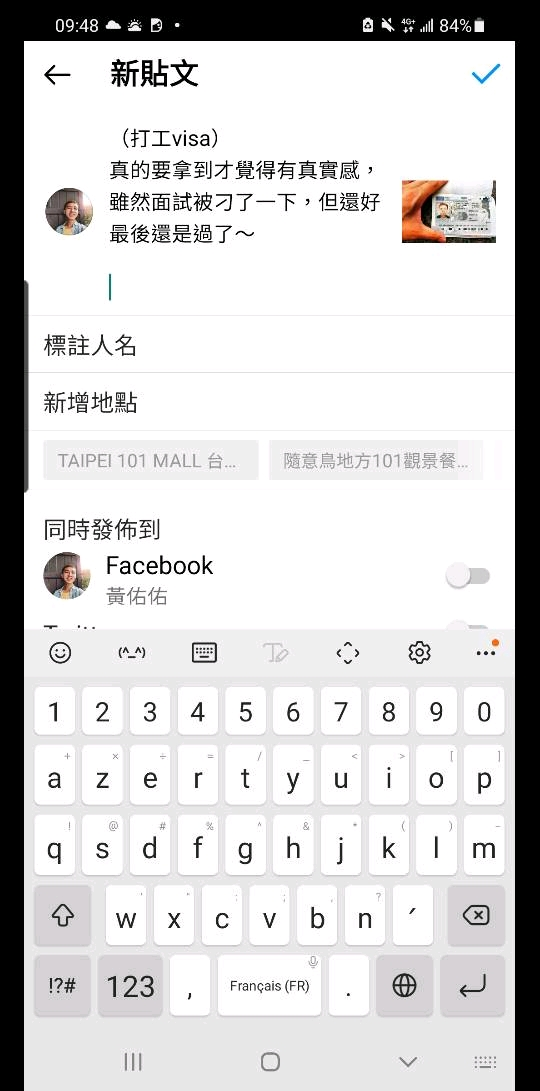back: (36, 49, 81, 95)
